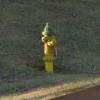Hydrant: (32, 19, 57, 78)
